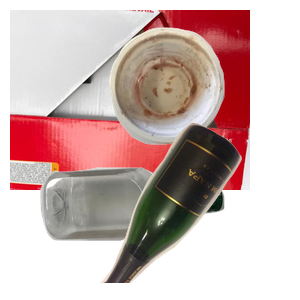cardboard: (10, 10, 250, 190)
glass: (87, 120, 300, 300)
plastic: (38, 165, 255, 300)
trash: (107, 25, 300, 162)
